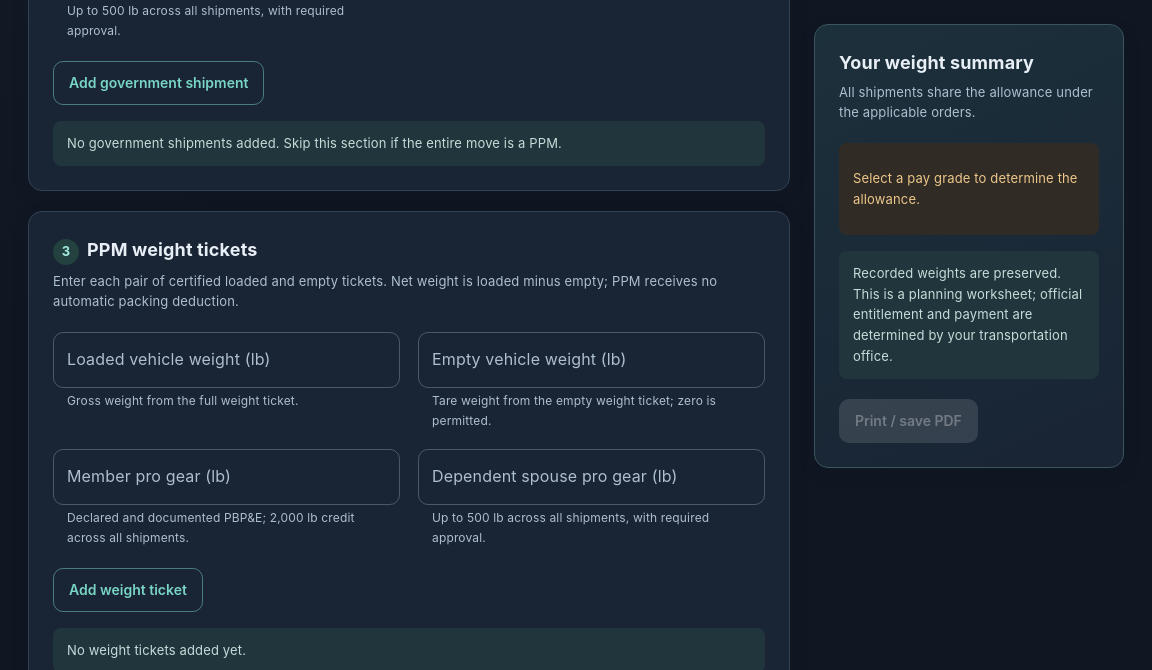
Test: weights survive switching between calculators
This screenshot has width=1152, height=670.
(page scrolled)
In the number field labelled "Loaded vehicle weight (lb)": (226, 360) [53,332,400,388], type "1000"
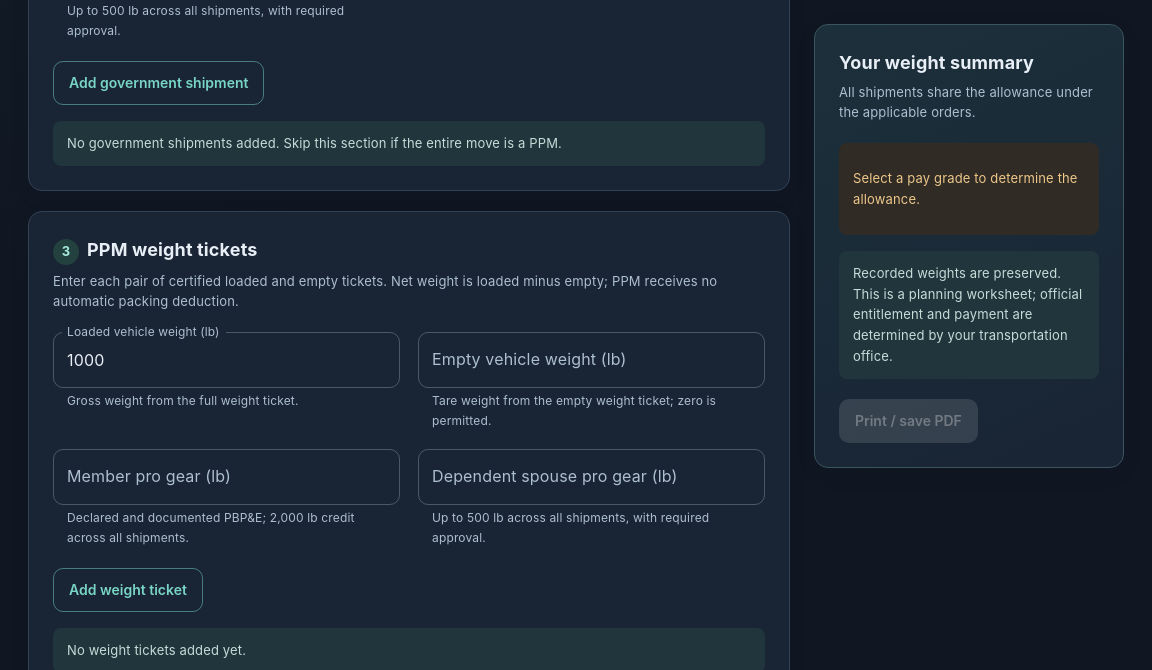
In the number field labelled "Empty vehicle weight (lb)": (592, 360) [418,332,765,388], type "0"
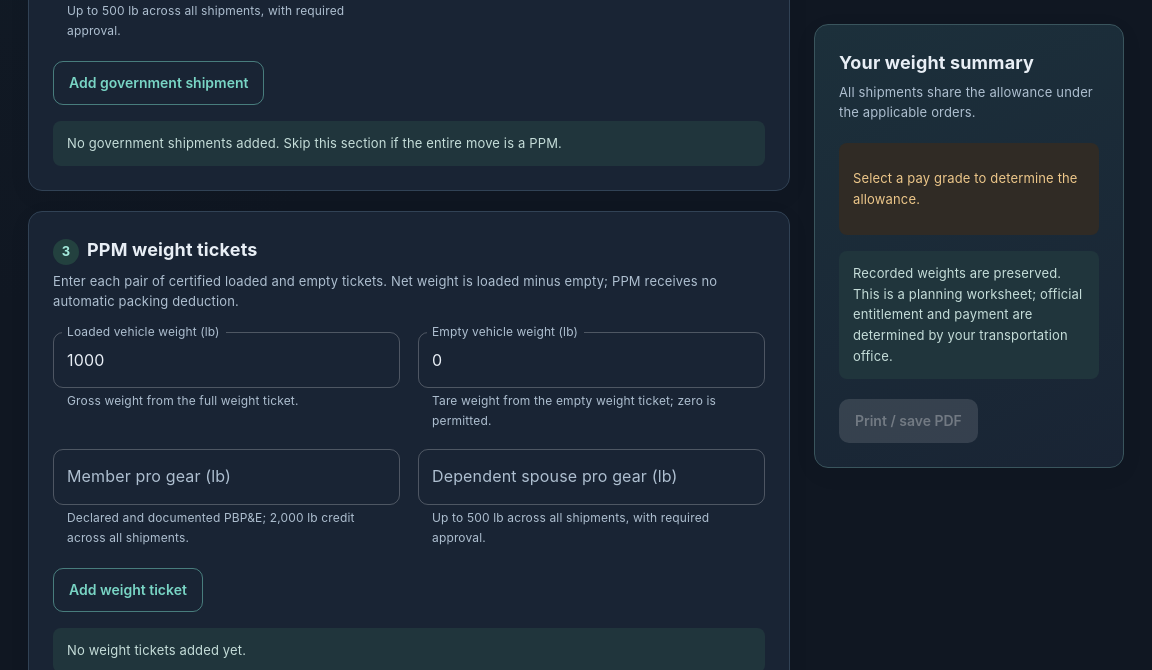
Click the button "Add weight ticket": (128, 590) [53,568,203,612]
(page scrolled)
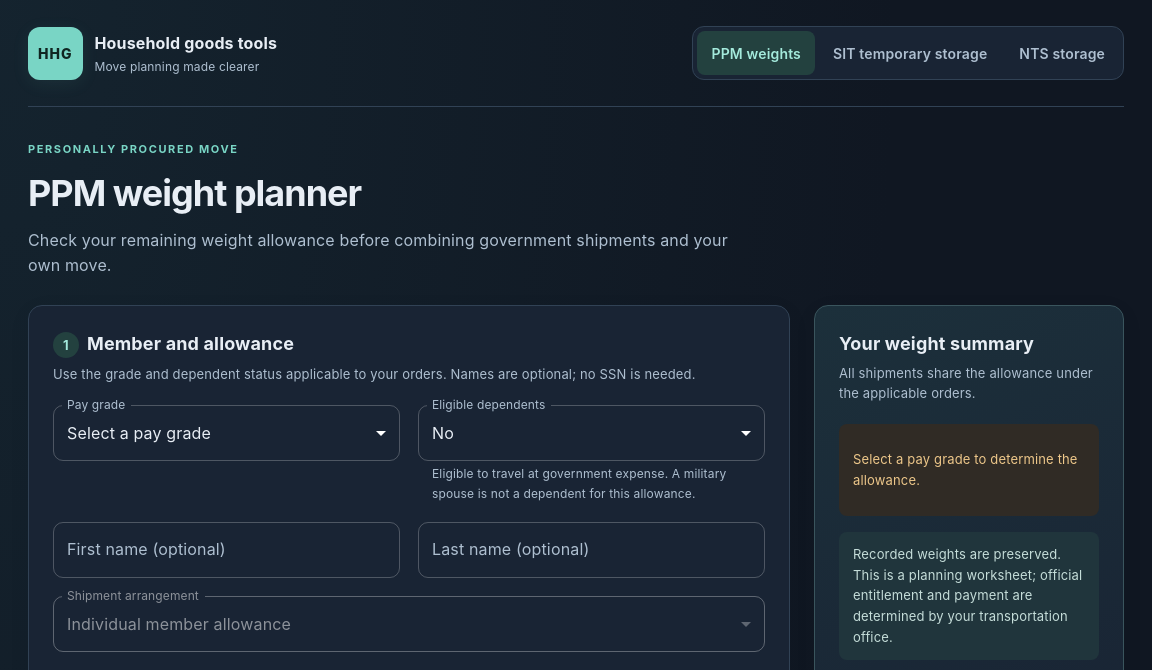
Click the link "NTS storage": (1062, 53) [1019,44,1105,62]
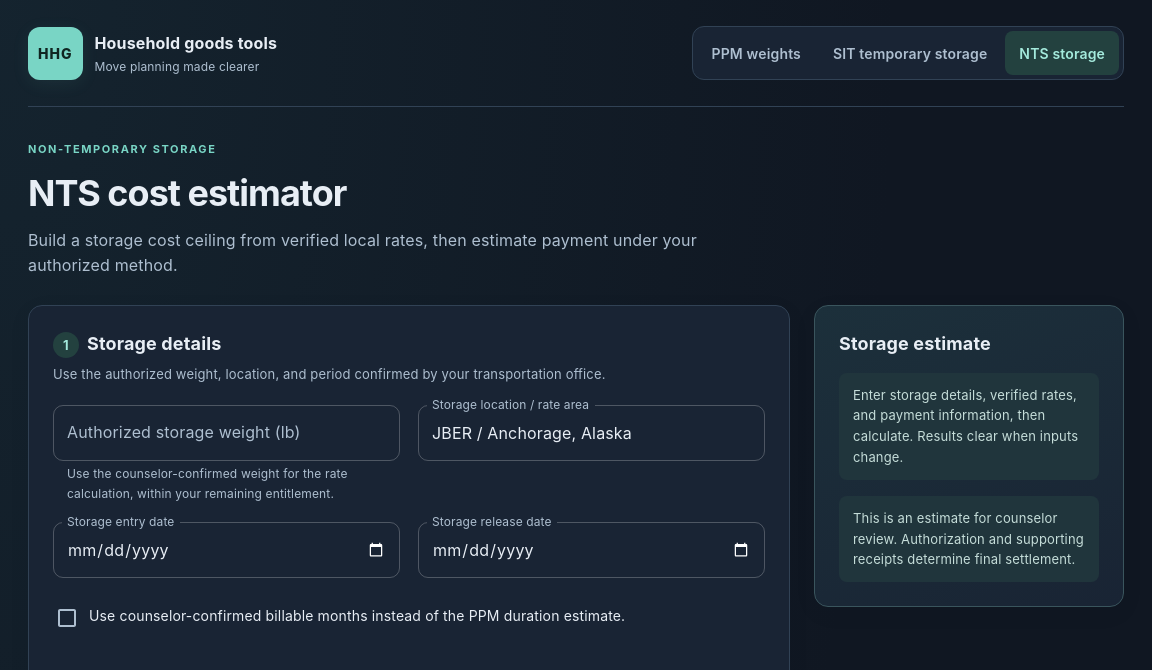
Expected: the heading "NTS cost estimator" is shown, [28,170,346,214]
Click the link "PPM weights": (756, 53) [712,44,801,62]
(page scrolled)
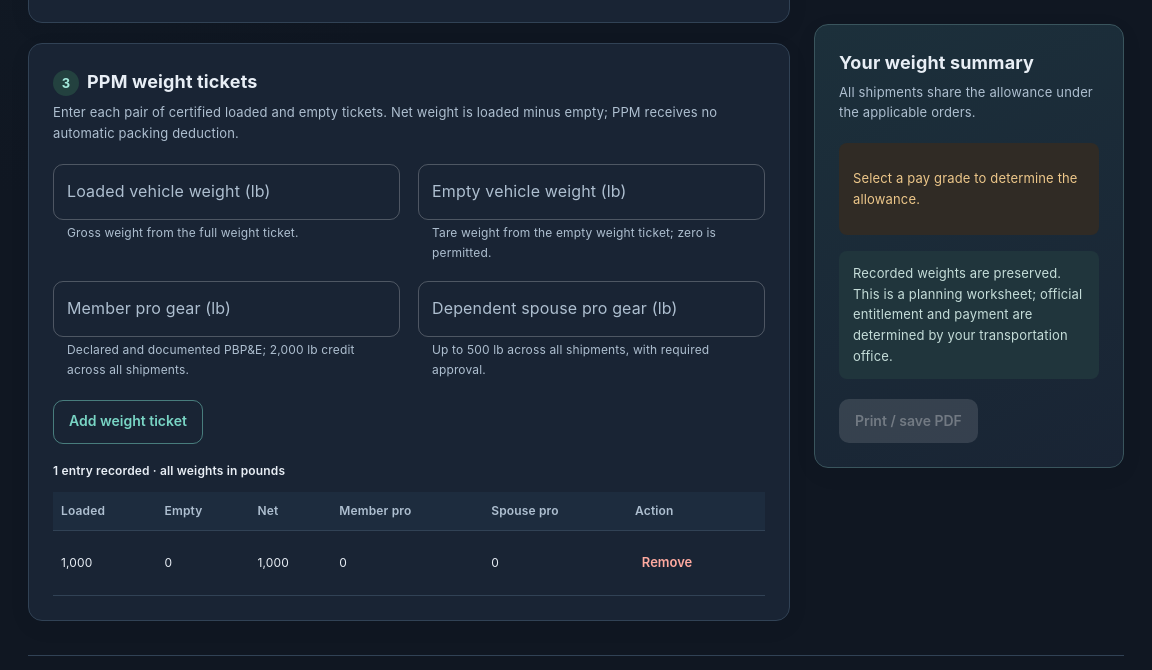
Expected: the table named "PPM weight tickets" is shown, [53,462,765,596]
